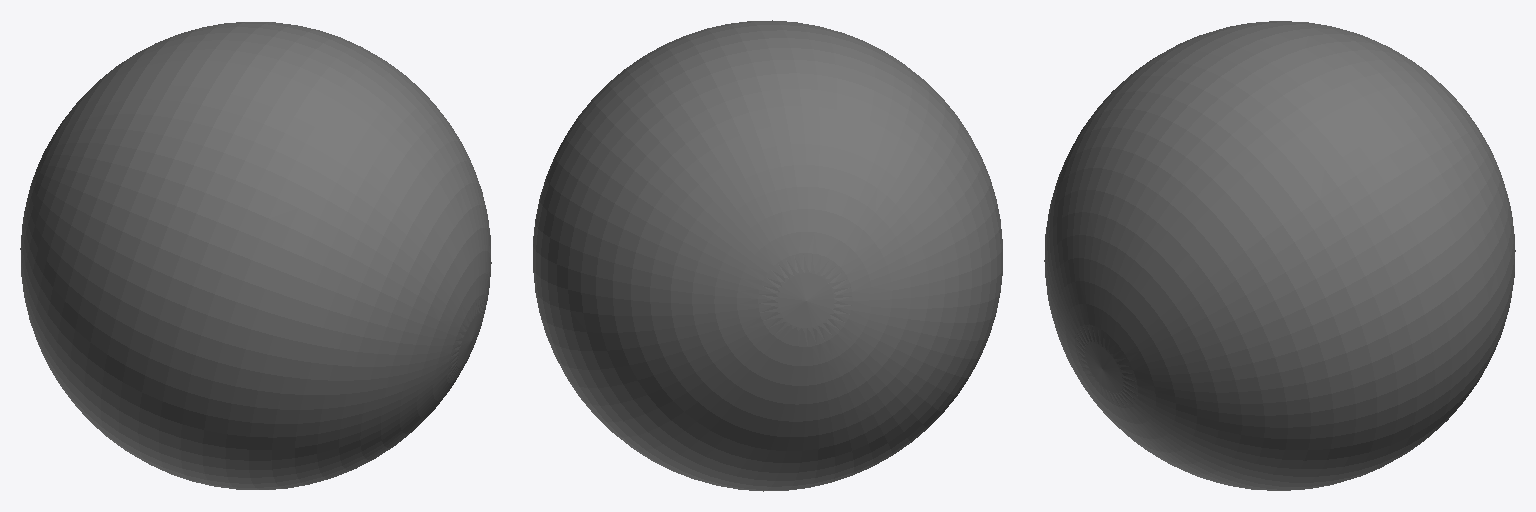
robot.urdf — 4_ball:
<?xml version="1.0"?>
<robot name="4_ball">
  <link name="base">
    <visual>
      <geometry>
        <mesh filename="4_ball.obj" scale="1 1 1"/>
      </geometry>
      <material name="gray">
        <color rgba="0.5 0.5 0.5 1.0"/>
      </material>
    </visual>
    <collision>
      <geometry>
        <mesh filename="4_ball.obj" scale="1 1 1"/>
      </geometry>
    </collision>
    <inertial>
      <mass value="1.000"/>
      <inertia
          ixx="0.001031" ixy="0.000000" ixz="0.000000"
          iyy="0.001031" iyz="0.000000"
          izz="0.001035"/>
      <origin xyz="-0.016134 0.078165 0.833091" rpy="0 0 0"/>
    </inertial>
  </link>
</robot>

--- Facts derived from the render (not from the file) ---
3 views of the same robot in one strip: view 1: azimuth 30°, elevation 25°; view 2: azimuth 150°, elevation 25°; view 3: azimuth 270°, elevation 25° (orthographic).
Model 4_ball with 1 links and 0 joints (none), rooted at base, posed all joints at 0.
Links seen in each view (by area): view 1: base; view 2: base; view 3: base.
Link boxes in pixels (x1=…): base: x1=20, y1=22, x2=491, y2=489; base: x1=533, y1=20, x2=1002, y2=491; base: x1=1044, y1=21, x2=1515, y2=490.
Bounding box of the posed robot: 0.0788 × 0.0788 × 0.0785 m (x, y, z).
Meshes: 1 distinct files referenced, 1 mesh visuals loaded (1 OBJ).
